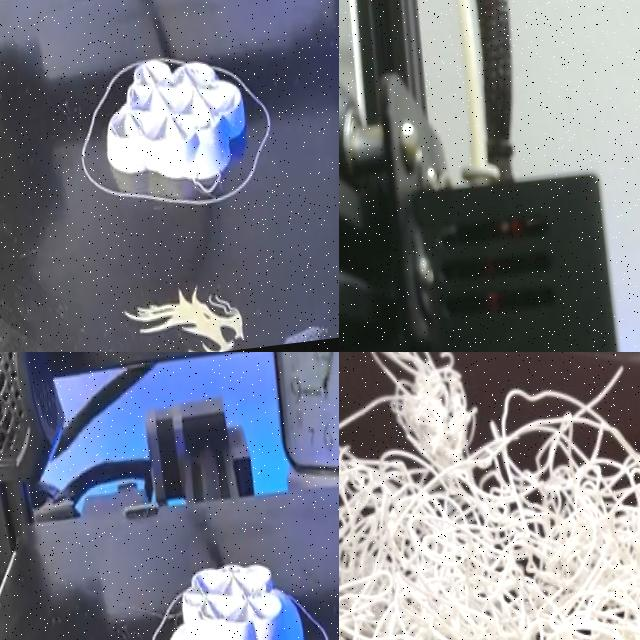spaghetti: (339, 352, 640, 640)
